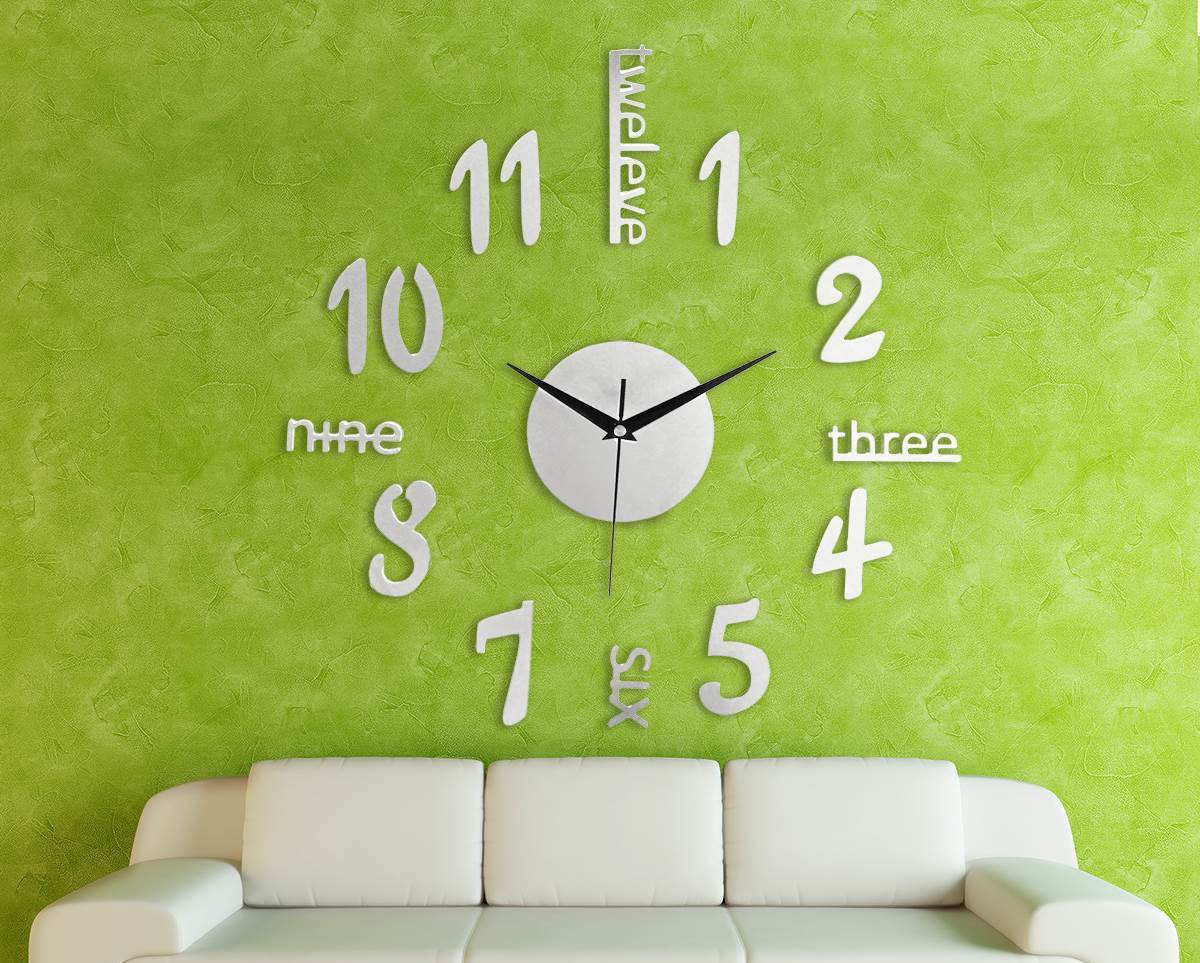jam dinding: (258, 66, 983, 749)
